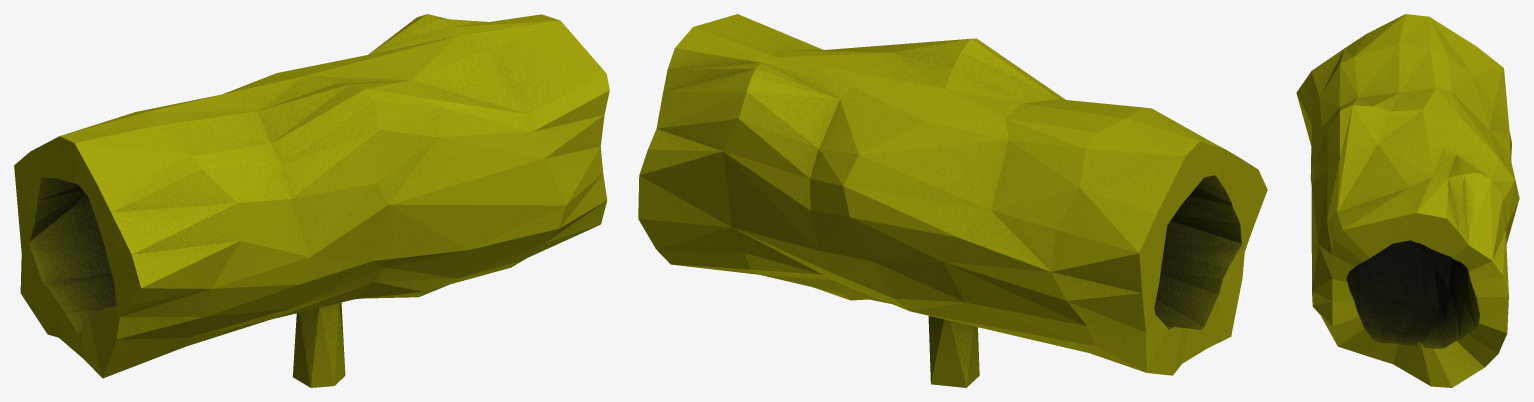
File: Pipe.glb
3 views of the same model, side by side, from view 1: azimuth 30°, elevation 25°; view 2: azimuth 150°, elevation 25°; view 3: azimuth 270°, elevation 25° (orthographic). The views are drawn at different scales.
Parts seen in each view (by area): view 1: Pipe; view 2: Pipe; view 3: Pipe.
Boxes of the visible parts, x1,y1,x2,y2 form: Pipe: (14,14,609,387); Pipe: (638,14,1267,387); Pipe: (1296,14,1519,387).
Size of the model in its own units: 4.69 by 2.79 by 2.24.
1 material, 1 textured.
